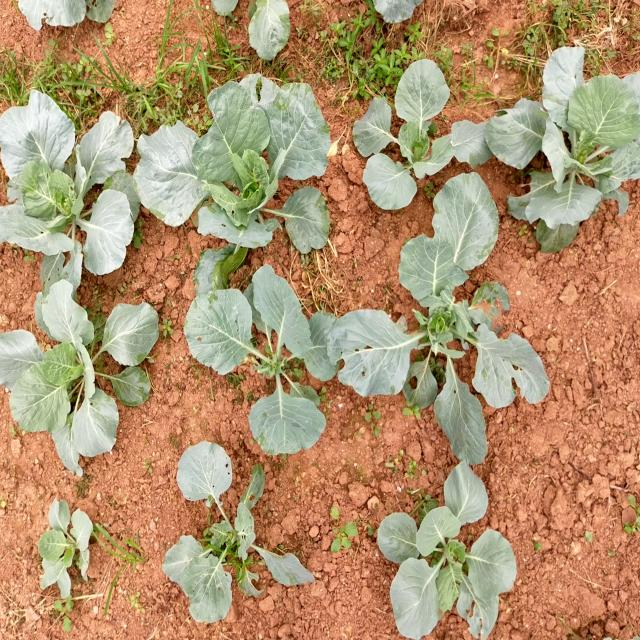Cabbage: (354, 182, 558, 478), (156, 64, 342, 279), (0, 74, 153, 296), (0, 290, 170, 479), (498, 34, 640, 247), (149, 440, 296, 600), (356, 51, 488, 228), (380, 476, 520, 640), (190, 304, 339, 436), (202, 2, 332, 67), (32, 494, 105, 604), (0, 0, 121, 32)
